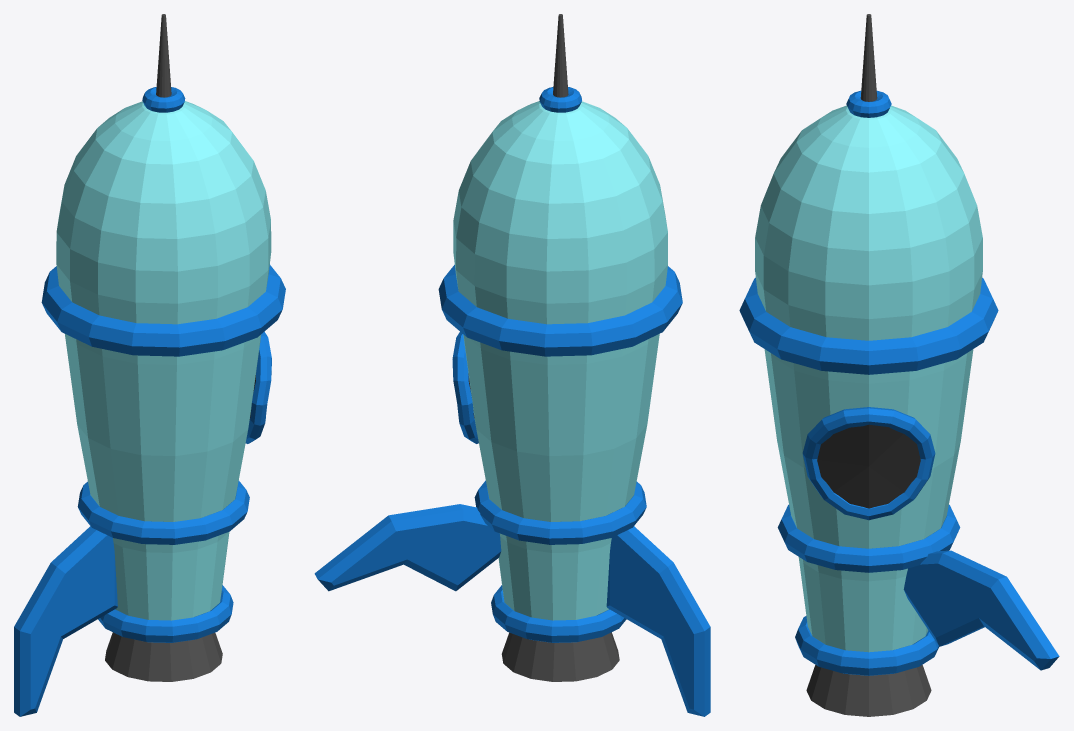
The model's file is Broken Rocket Fixed.fbx.
3 renders of one model, left to right at view 1: azimuth 30°, elevation 25°; view 2: azimuth 150°, elevation 25°; view 3: azimuth 270°, elevation 25°, orthographic. The views are drawn at different scales.
Visible parts, largest first — view 1: Rocket.001; view 2: Rocket.001; view 3: Rocket.001.
Part boxes in pixels (x1,y1,x2,y2): Rocket.001: (14, 14, 285, 716); Rocket.001: (314, 14, 710, 716); Rocket.001: (739, 14, 1059, 716).
Bounding box in the file's own units: 1308 × 2707 × 1125.
